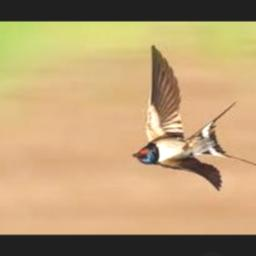Swallow: (131, 44, 256, 191)
